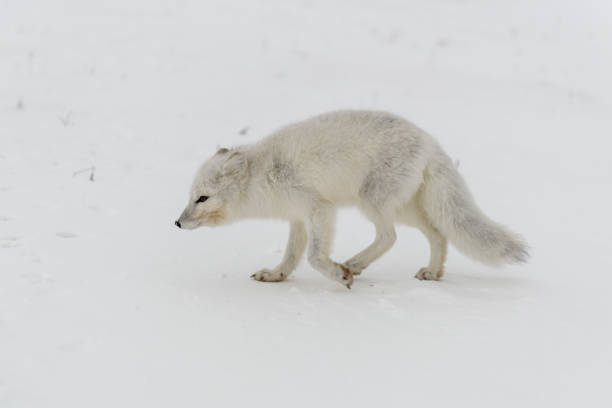arcticfox: (168, 164, 259, 262)
